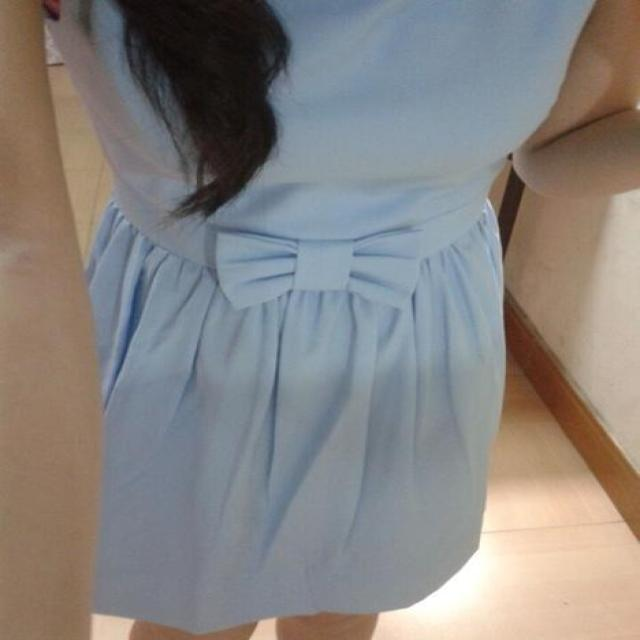short-sleeve-dress: (55, 22, 527, 610)
